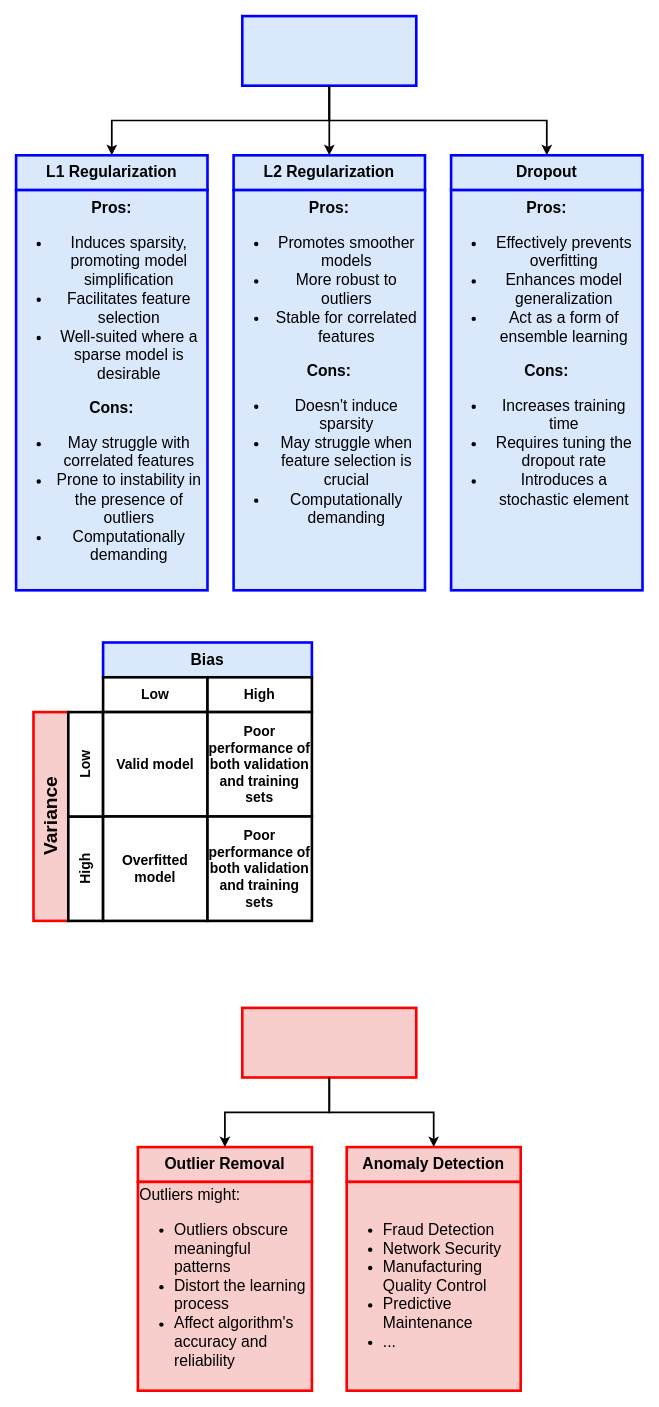
This 659x1407 diagram has some shape labels left out. Here are the shapes that lost their labels. From the top down, the centre of each, then its label:
At (x=329, y=50): "Neural Network Regularization".
At (x=329, y=1042): "Outlier Detection".
